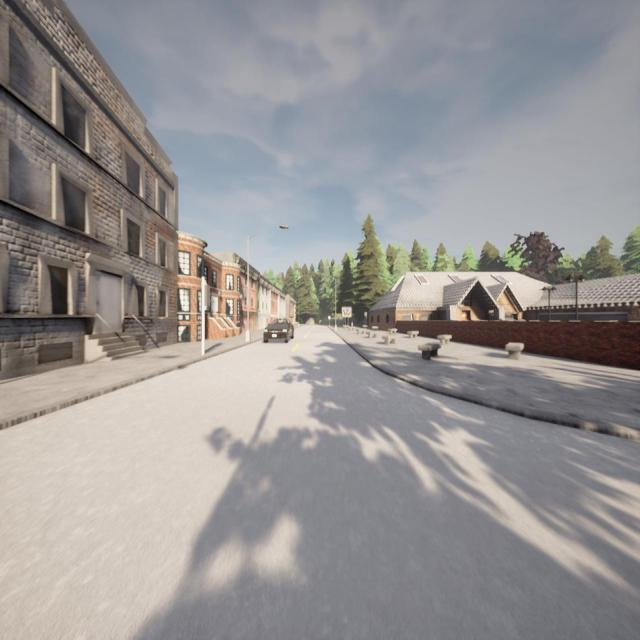Traffic_Signs: (328, 315, 331, 320)
Vehicle: (263, 318, 293, 343)
